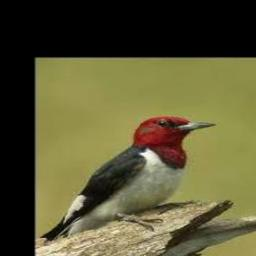Woodpecker: (40, 116, 217, 242)
